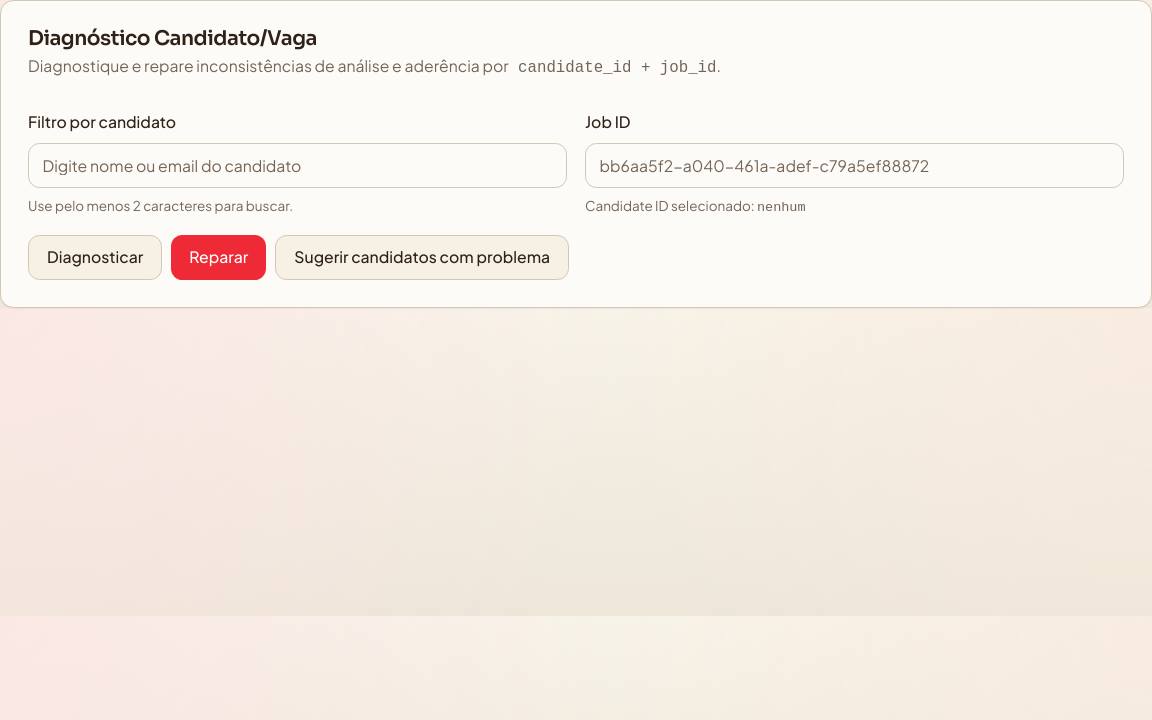
Test: CandidateJobFlowDiagnosticsCard › exibe actions traduzidas
The image size is (1152, 720).
Type "Alice" into the field labelled "Filtro por candidato" at (298, 165), box [28,142,567,188]
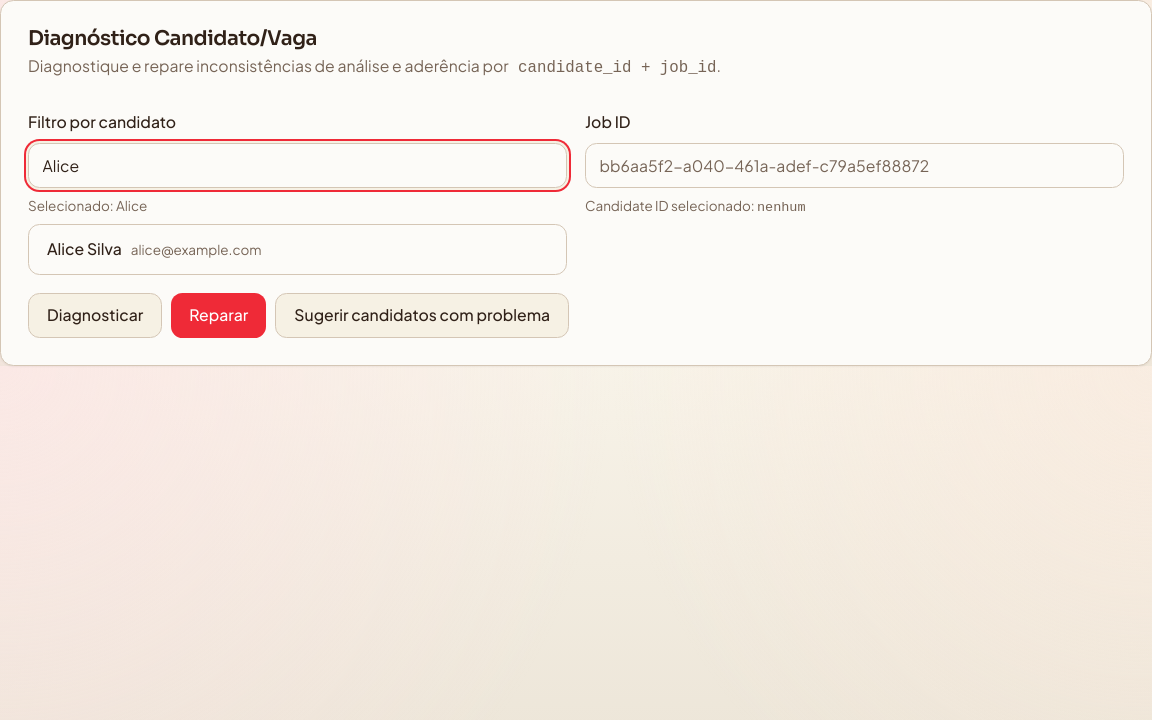
Click the button "Alice Silva" at (84, 248), box [38,234,557,265]
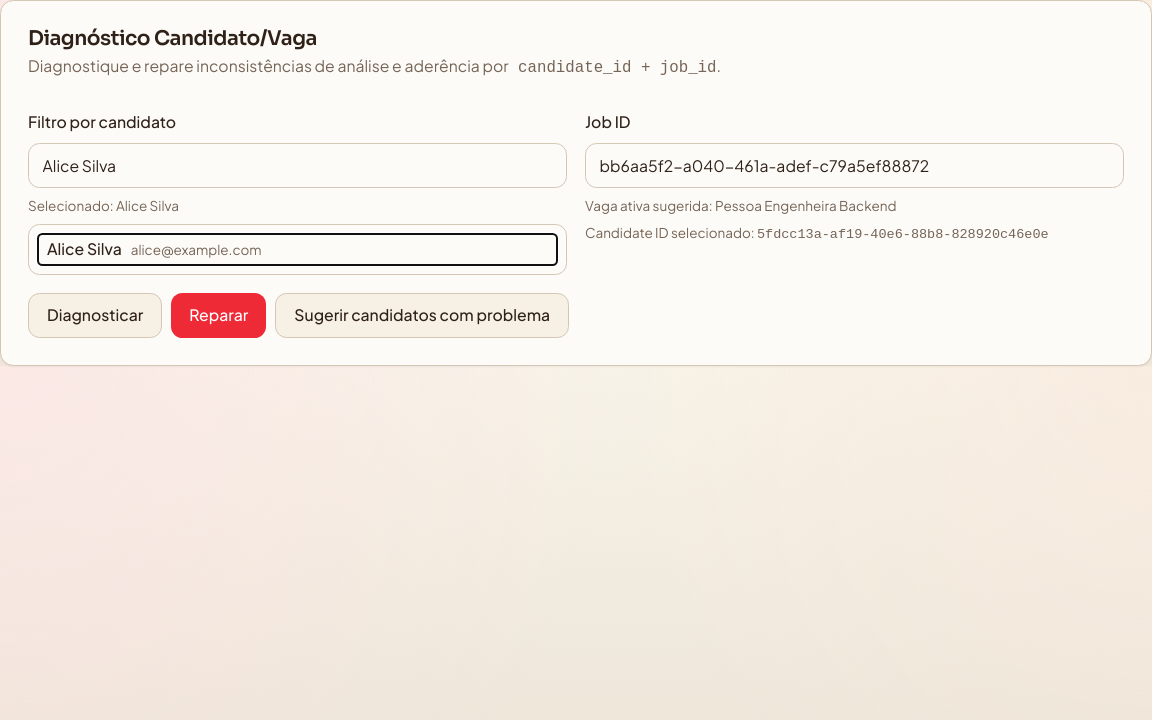
Expected: the field labelled "Job ID" holds "bb6aa5f2-a040-461a-adef-c79a5ef88872", [585,142,1124,188]
Click the button "Reparar" at (219, 316), box [171,293,266,338]
(page scrolled)
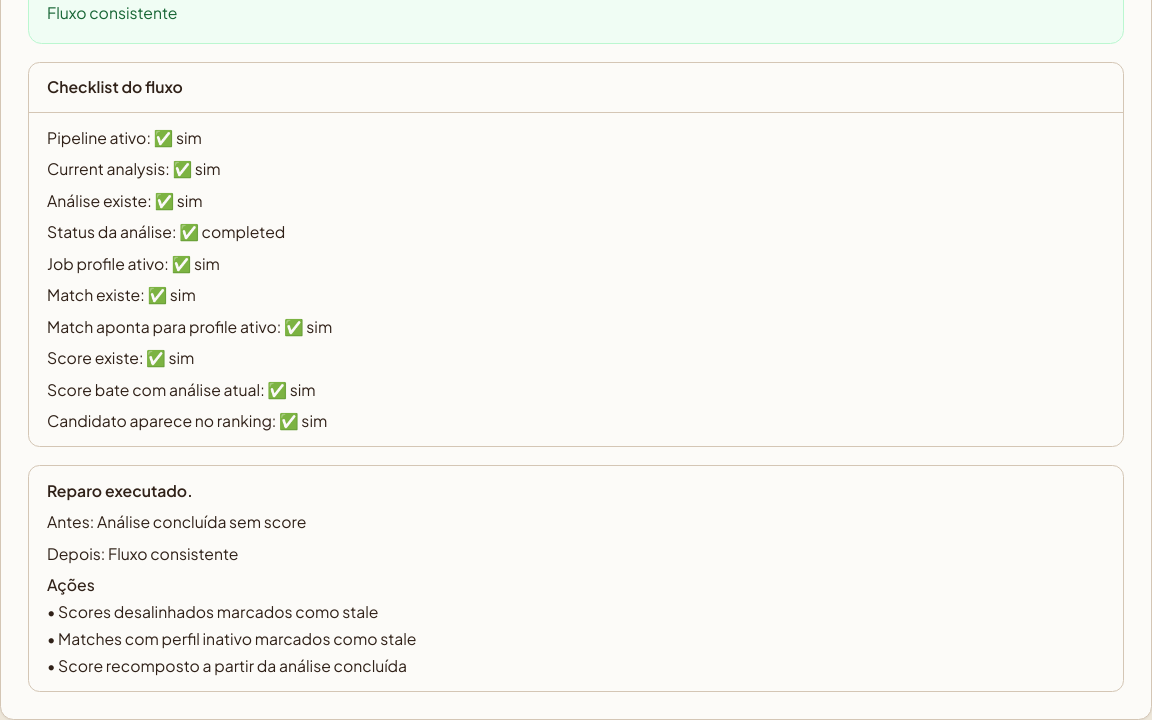
Expected: the text "Reparo executado." is shown, [47,481,193,500]
Expected: the list item "• Scores desalinhados marcados como stale" is shown, [47,602,379,621]
Expected: the list item "• Matches com perfil inativo marcados como stale" is shown, [47,629,416,648]
